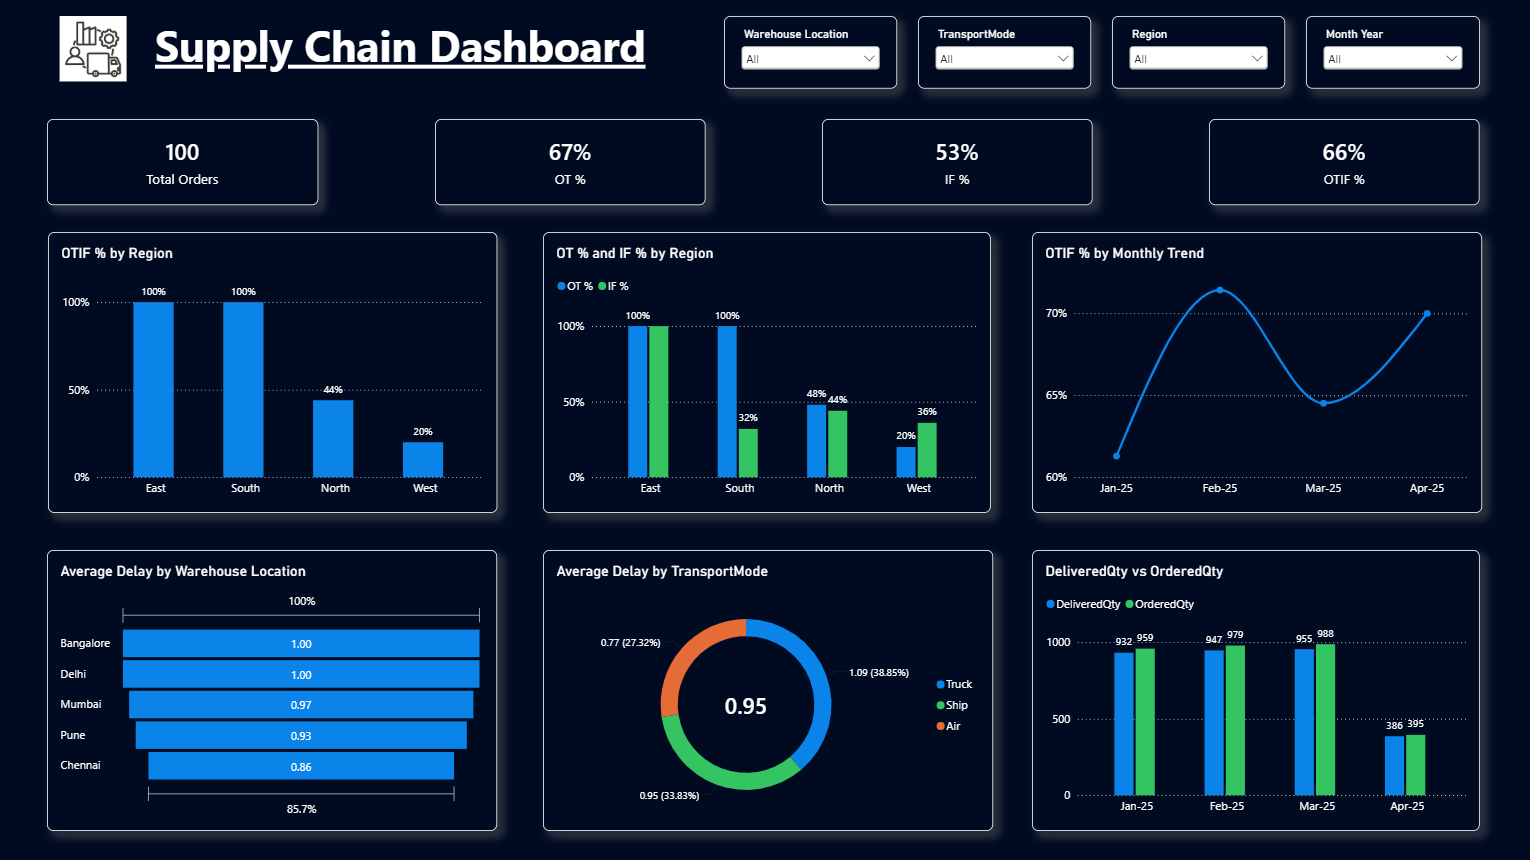

What the dashboard file says about the page in this screenshot:
{"tool":"powerbi","page":{"name":"Page 1","canvas":[1920,1080],"ordinal":0},"visuals":[{"type":"card","fields":{"Values":["Measures (2).Total Orders"]},"box":[60.1,149.1,339.5,107.7],"z":0},{"type":"card","fields":{"Values":["Measures (2).OT %"]},"box":[545.8,149.1,339,107.7],"z":1000},{"type":"card","fields":{"Values":["Measures (2).IF %"]},"box":[1030.9,149.1,339,107.7],"z":2000},{"type":"card","fields":{"Values":["Measures (2).OTIF %"]},"box":[1516,149.1,339,107.7],"z":3000},{"type":"clusteredColumnChart","fields":{"Category":["FACT_SCM.Region"],"Y":["Measures (2).OTIF %"]},"box":[62,290.3,563,352.3],"z":4000},{"type":"clusteredColumnChart","fields":{"Category":["FACT_SCM.Region"],"Y":["Measures (2).OT %","Measures (2).IF %"]},"box":[681.8,290.3,560.9,352.3],"z":5000},{"type":"lineChart","title":"OTIF % by Monthly Trend","fields":{"Category":["Date_Table.Month Year"],"Y":["Measures (2).OTIF %"]},"box":[1294.1,290.3,563.9,352.3],"z":6000},{"type":"funnel","fields":{"Category":["DIM_MATERIAL.Warehouse Location"],"Y":["Measures (2).Average Delay"]},"box":[60.5,689.4,563.9,352.3],"z":7000},{"type":"donutChart","fields":{"Category":["FACT_SCM.TransportMode"],"Y":["Measures (2).Average Delay"]},"box":[681.8,689.4,563.9,352.3],"z":8000},{"type":"clusteredColumnChart","title":"DeliveredQty vs OrderedQty","fields":{"Category":["Date_Table.Month Year"],"Y":["Sum(FACT_SCM.DeliveredQty)","Sum(FACT_SCM.OrderedQty)"]},"box":[1294.1,689.4,560.9,352.3],"z":9000},{"type":"textbox","box":[195.9,19.6,663.7,75.6],"z":10000},{"type":"slicer","fields":{"Values":["Date_Table.Month Year"]},"box":[1637.5,20,217.7,90.7],"z":11000},{"type":"slicer","fields":{"Values":["FACT_SCM.Region"]},"box":[1394.5,20,217,90.7],"z":11001},{"type":"slicer","fields":{"Values":["FACT_SCM.TransportMode"]},"box":[1151.4,20,217,90.7],"z":11002},{"type":"slicer","fields":{"Values":["DIM_MATERIAL.Warehouse Location"]},"box":[908.4,20,217,90.7],"z":11003},{"type":"image","box":[58.4,19.6,117.9,81.6],"z":11004}]}

Visuals, with their boxes in screenshot pixels (x1, y1, x2, y2), scaled from the page's 1920x1080 canvas onto the 1530x860 screenshot:
card - Measures (2).Total Orders: {"left": 48, "top": 119, "right": 318, "bottom": 204}
card - Measures (2).OT %: {"left": 435, "top": 119, "right": 705, "bottom": 204}
card - Measures (2).IF %: {"left": 821, "top": 119, "right": 1092, "bottom": 204}
card - Measures (2).OTIF %: {"left": 1208, "top": 119, "right": 1478, "bottom": 204}
clusteredColumnChart - FACT_SCM.Region x Measures (2).OTIF %: {"left": 49, "top": 231, "right": 498, "bottom": 512}
clusteredColumnChart - FACT_SCM.Region x Measures (2).OT %: {"left": 543, "top": 231, "right": 990, "bottom": 512}
"OTIF % by Monthly Trend" lineChart: {"left": 1031, "top": 231, "right": 1481, "bottom": 512}
funnel - DIM_MATERIAL.Warehouse Location x Measures (2).Average Delay: {"left": 48, "top": 549, "right": 498, "bottom": 830}
donutChart - FACT_SCM.TransportMode x Measures (2).Average Delay: {"left": 543, "top": 549, "right": 993, "bottom": 830}
"DeliveredQty vs OrderedQty" clusteredColumnChart: {"left": 1031, "top": 549, "right": 1478, "bottom": 830}
textbox: {"left": 156, "top": 16, "right": 685, "bottom": 76}
slicer - Date_Table.Month Year: {"left": 1305, "top": 16, "right": 1478, "bottom": 88}
slicer - FACT_SCM.Region: {"left": 1111, "top": 16, "right": 1284, "bottom": 88}
slicer - FACT_SCM.TransportMode: {"left": 918, "top": 16, "right": 1090, "bottom": 88}
slicer - DIM_MATERIAL.Warehouse Location: {"left": 724, "top": 16, "right": 897, "bottom": 88}
image: {"left": 47, "top": 16, "right": 140, "bottom": 81}
